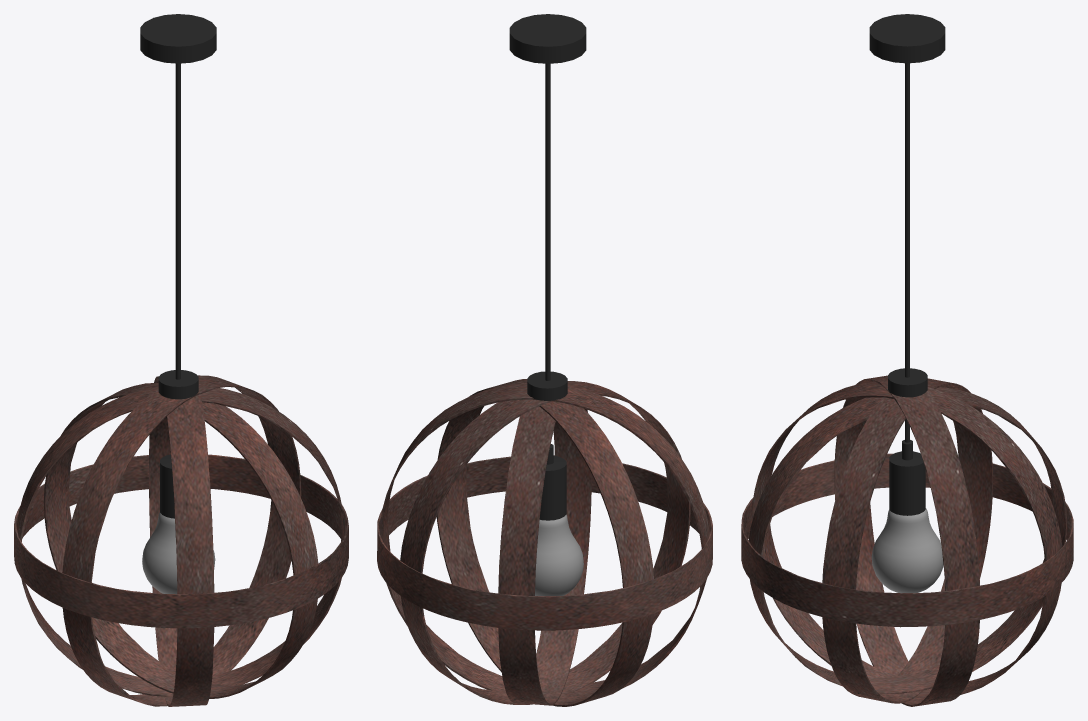
Rendered from Ceiling Lamp 19.FBX.
The picture shows the model from 3 angles, left to right: view 1: azimuth 30°, elevation 25°; view 2: azimuth 150°, elevation 25°; view 3: azimuth 270°, elevation 25°; orthographic projection.
Parts seen in each view (by area): view 1: ceiling lamp 19; view 2: ceiling lamp 19; view 3: ceiling lamp 19.
Part boxes in pixels (x1,y1,x2,y2): ceiling lamp 19: [14, 14, 348, 706]; ceiling lamp 19: [377, 14, 712, 706]; ceiling lamp 19: [741, 14, 1073, 706].
Bounding box in the file's own units: 35.51 × 77.7 × 35.51.
Materials: 3 (2 with a texture image).
